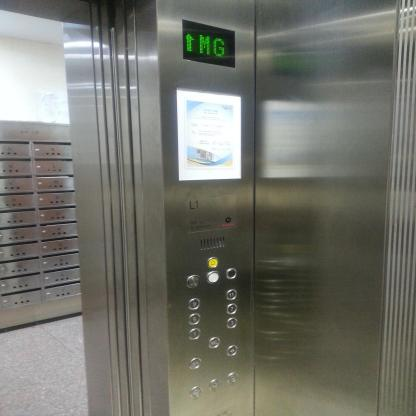1: (188, 328, 200, 340)
11: (226, 289, 237, 300)
3: (226, 317, 237, 328)
5: (188, 313, 200, 325)
7: (226, 303, 236, 314)
9: (188, 298, 199, 310)
MG: (209, 336, 220, 348)
alarm: (207, 257, 218, 269)
blur: (225, 268, 237, 279)
close: (189, 358, 201, 369)
empty: (206, 271, 220, 284)
keyhole: (190, 386, 201, 398), (227, 372, 237, 384), (210, 379, 219, 391)
led: (182, 19, 236, 67)
open: (227, 345, 237, 356)
speaker: (186, 275, 199, 288)
